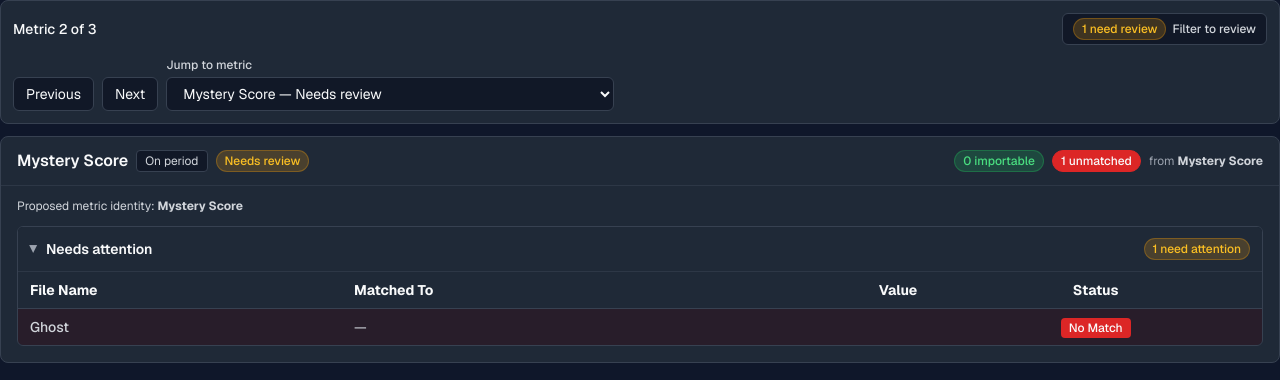
Test: MetricPreviewAccordion [component] › filters navigation to metrics needing review
The width and height of the screenshot is (1280, 380).
Expected: the element with test id "metric-preview-navigator" is shown, x1=0 y1=0 x2=1279 y2=124
Click the button with test id "metric-preview-needs-review-filter": (1164, 29) x1=1062 y1=13 x2=1267 y2=45
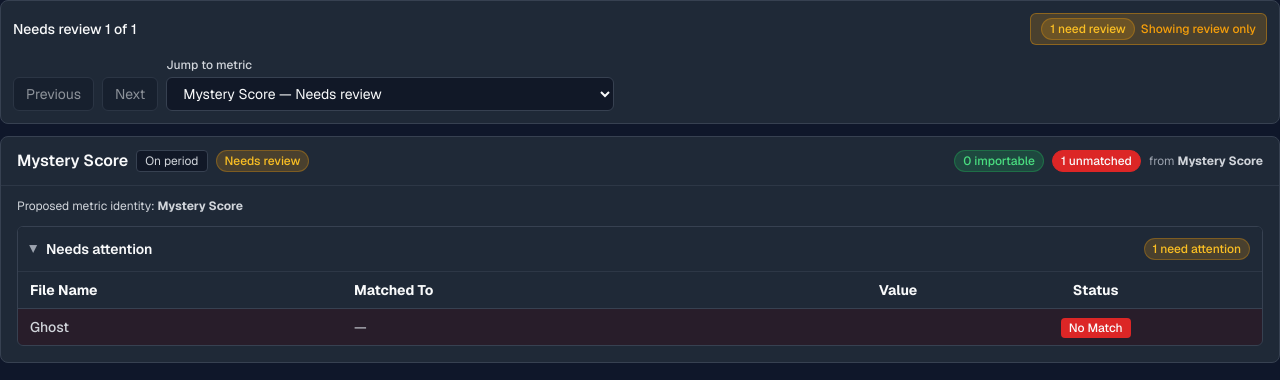
Expected: the element with test id "metric-preview-navigator" is shown, x1=0 y1=0 x2=1279 y2=124
Expected: the element with test id "metric-preview-navigator" shows "Needs review 1 of 1", x1=13 y1=20 x2=137 y2=38
Expected: the button with test id "metric-preview-next" is disabled, x1=102 y1=77 x2=158 y2=111
